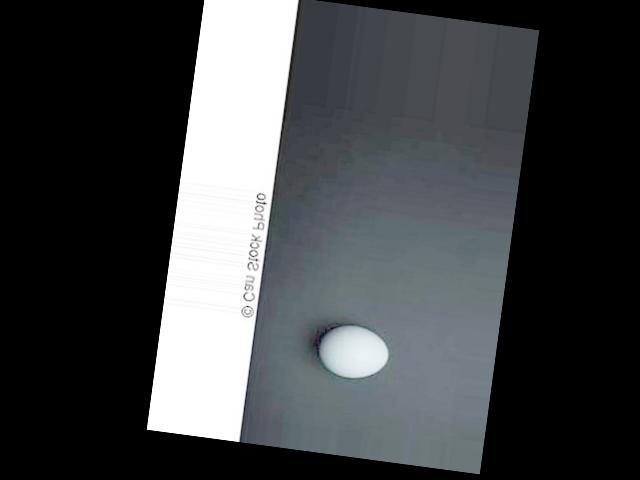egg: (316, 322, 391, 383)
